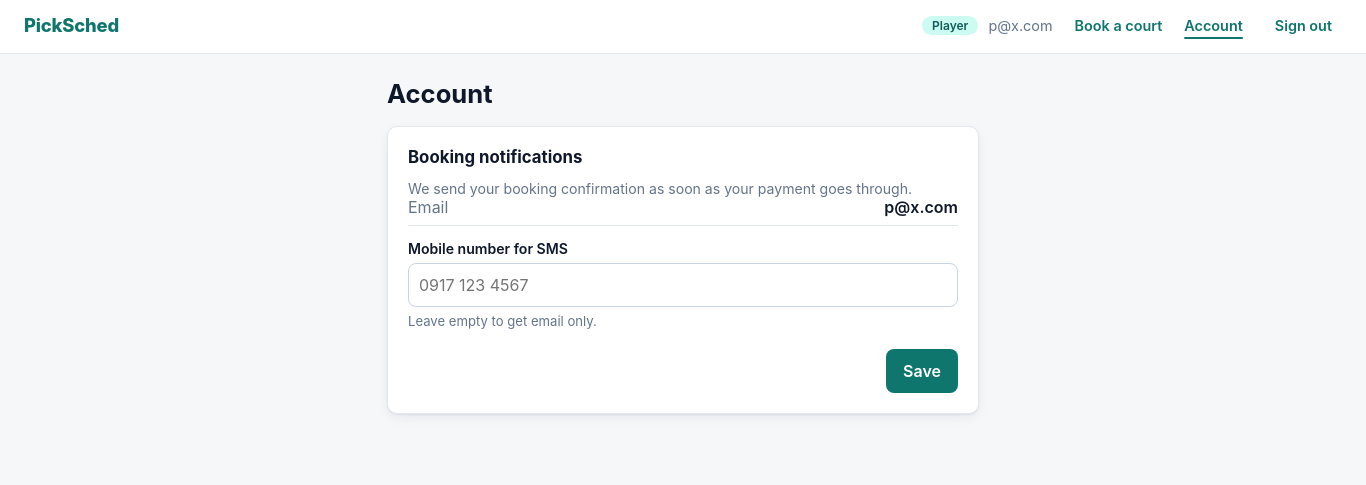
it: account notifications settings › shows the server explanation for an invalid number
Type "02 8123 4567" into the field labelled "Mobile number for SMS Leave empty to get email only." at (683, 285), box [408,263,958,307]
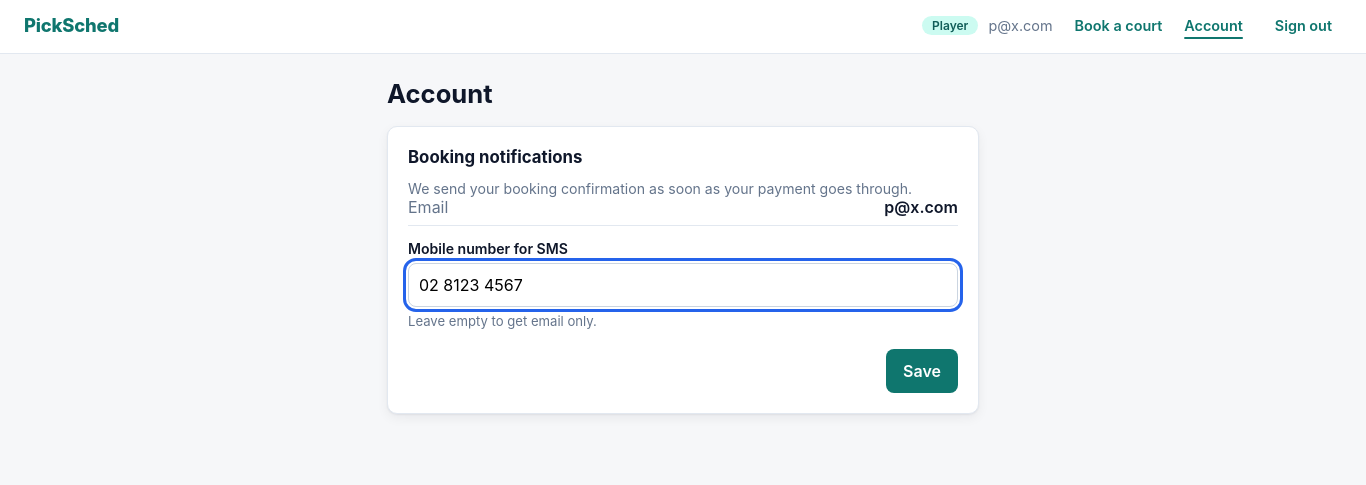
Click the button "Save" at (922, 371), box [886,349,958,393]
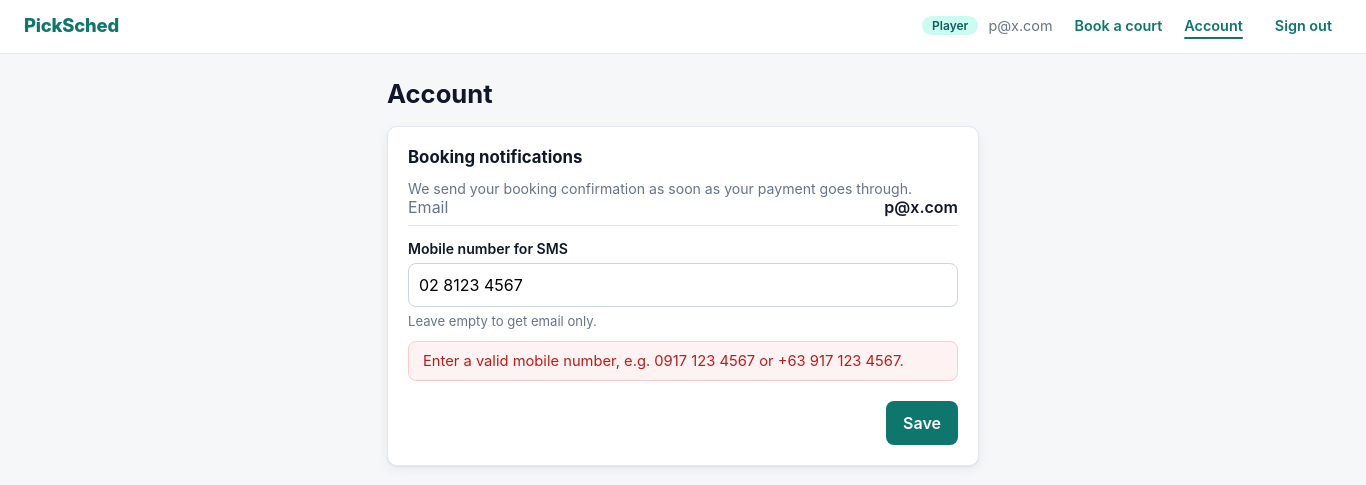
Expected: the message shows "valid mobile number", [423,352,904,370]
